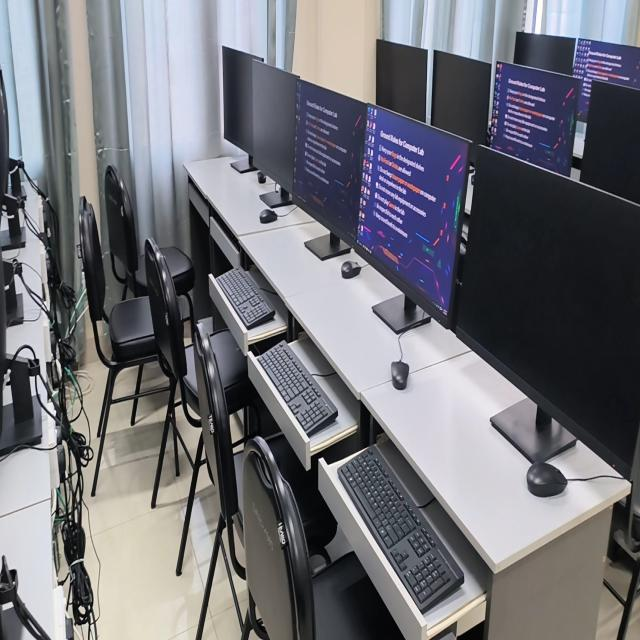Ac: (488, 62, 579, 175), (580, 81, 640, 204), (431, 50, 491, 165), (573, 39, 640, 121), (513, 32, 576, 75)
Chair: (242, 439, 402, 639), (80, 198, 170, 496), (144, 239, 214, 576), (194, 322, 256, 639), (604, 430, 640, 639), (105, 166, 147, 299)
Keyboard: (338, 446, 464, 612), (258, 341, 337, 437), (216, 268, 275, 329)
Monitor: (455, 146, 640, 479), (353, 105, 471, 334), (292, 79, 367, 260), (0, 250, 42, 457), (252, 64, 298, 206), (223, 47, 263, 173), (376, 39, 426, 121), (0, 68, 9, 217)
Mouse: (527, 462, 567, 497), (391, 359, 409, 389), (341, 261, 361, 279), (259, 209, 277, 223), (257, 171, 266, 183)
